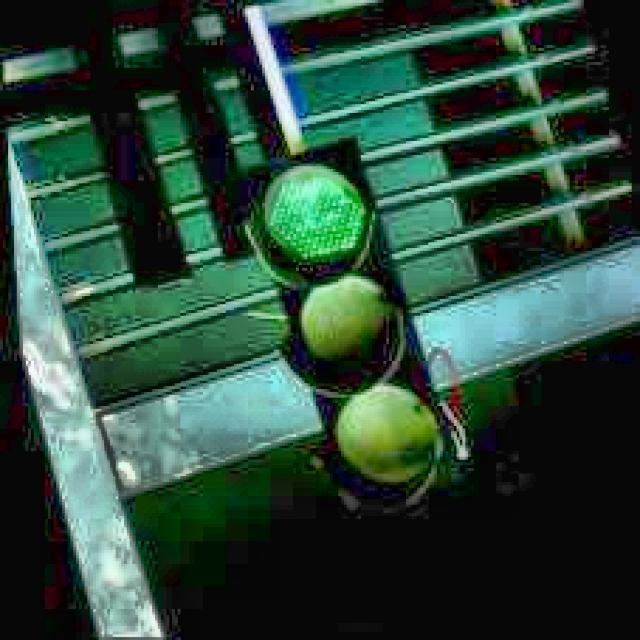green: (225, 128, 462, 515)
